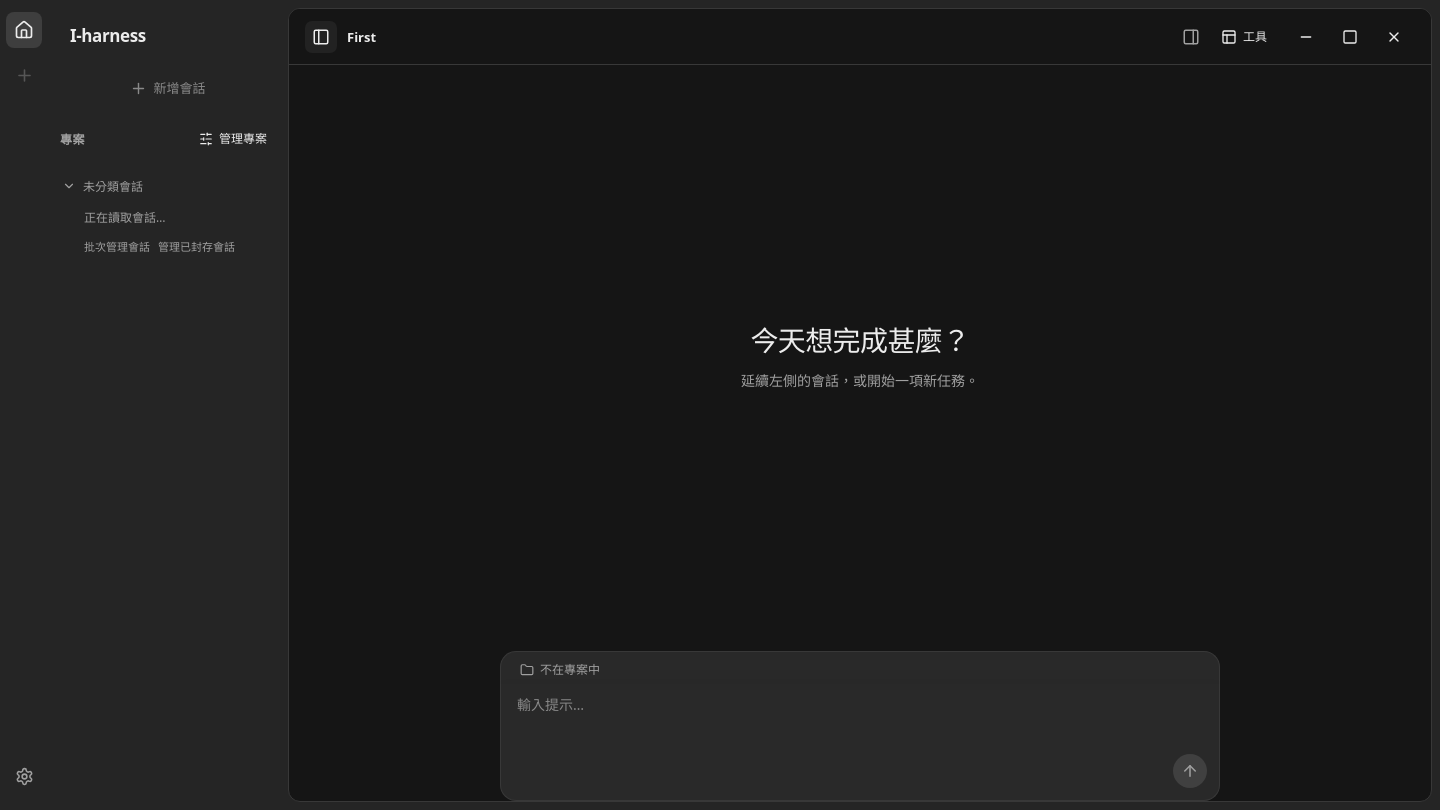
it: mounts the batch manager, confirms the action and retains only failed selections
Click the button "批次管理會話": (117, 246) [84,232,150,260]
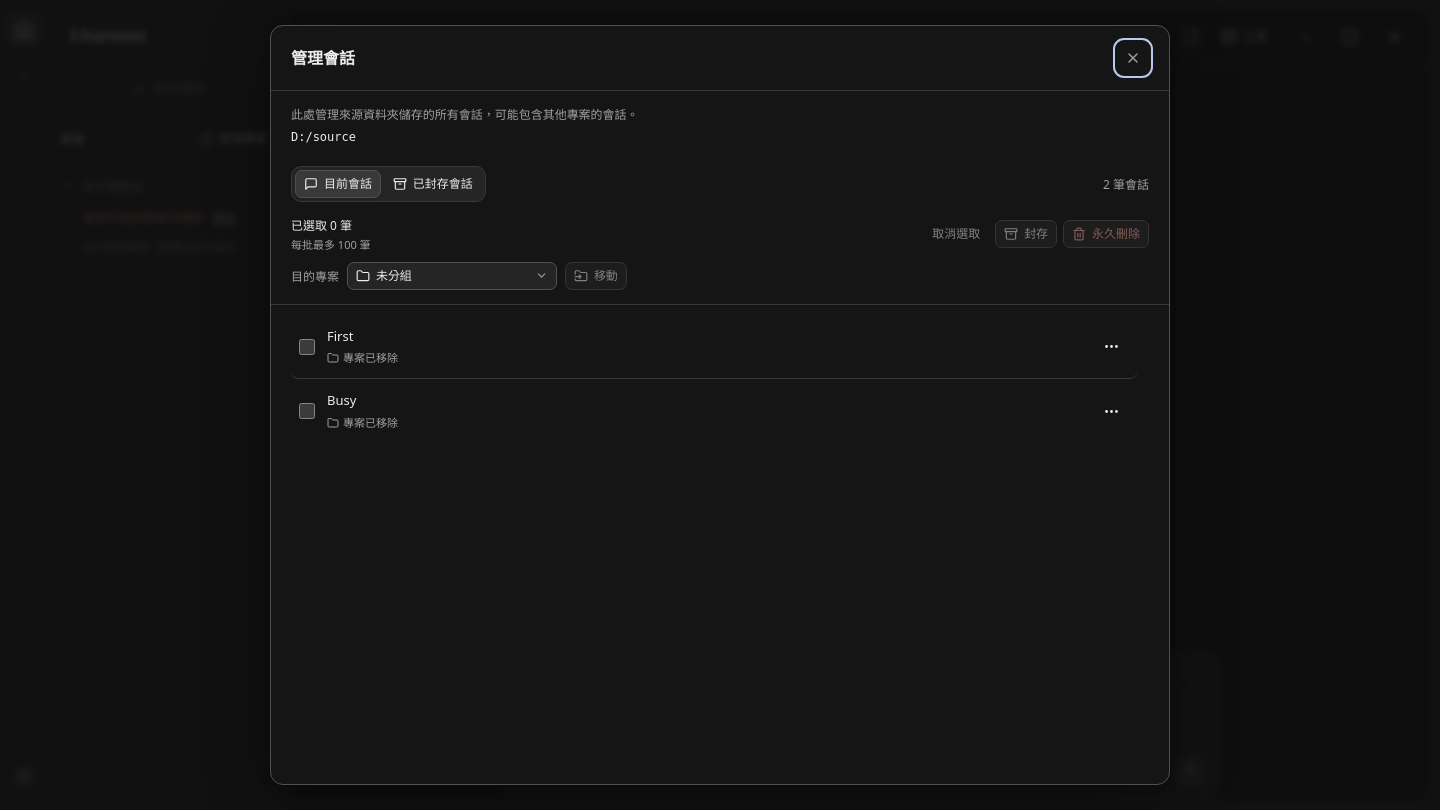
Click the checkbox named "選取 First": (307, 346) [299,338,315,354]
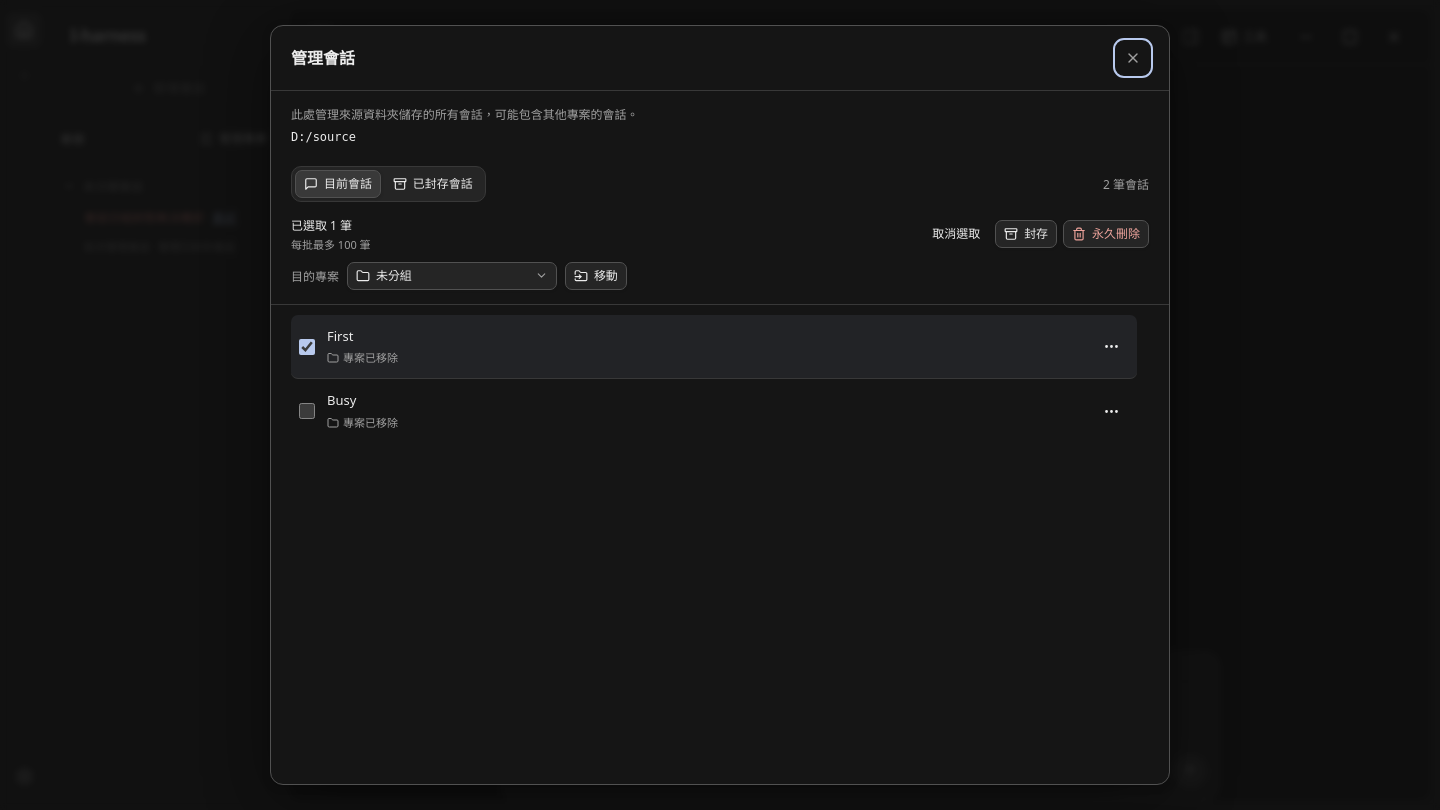
Click the checkbox named "選取 Busy": (307, 412) [299,404,315,420]
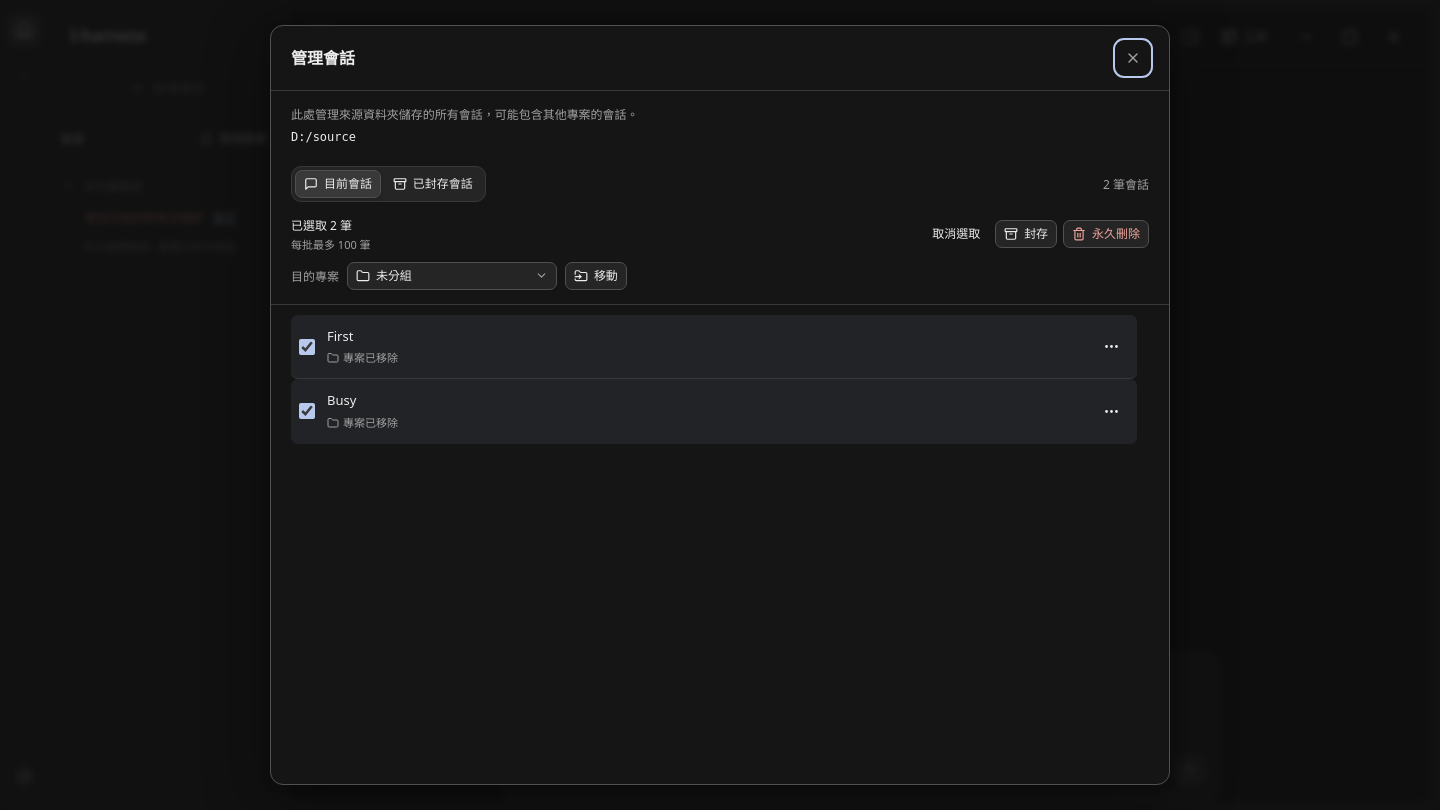
Click the button with aria-label "封存所選會話": (1026, 234) [995,220,1057,248]
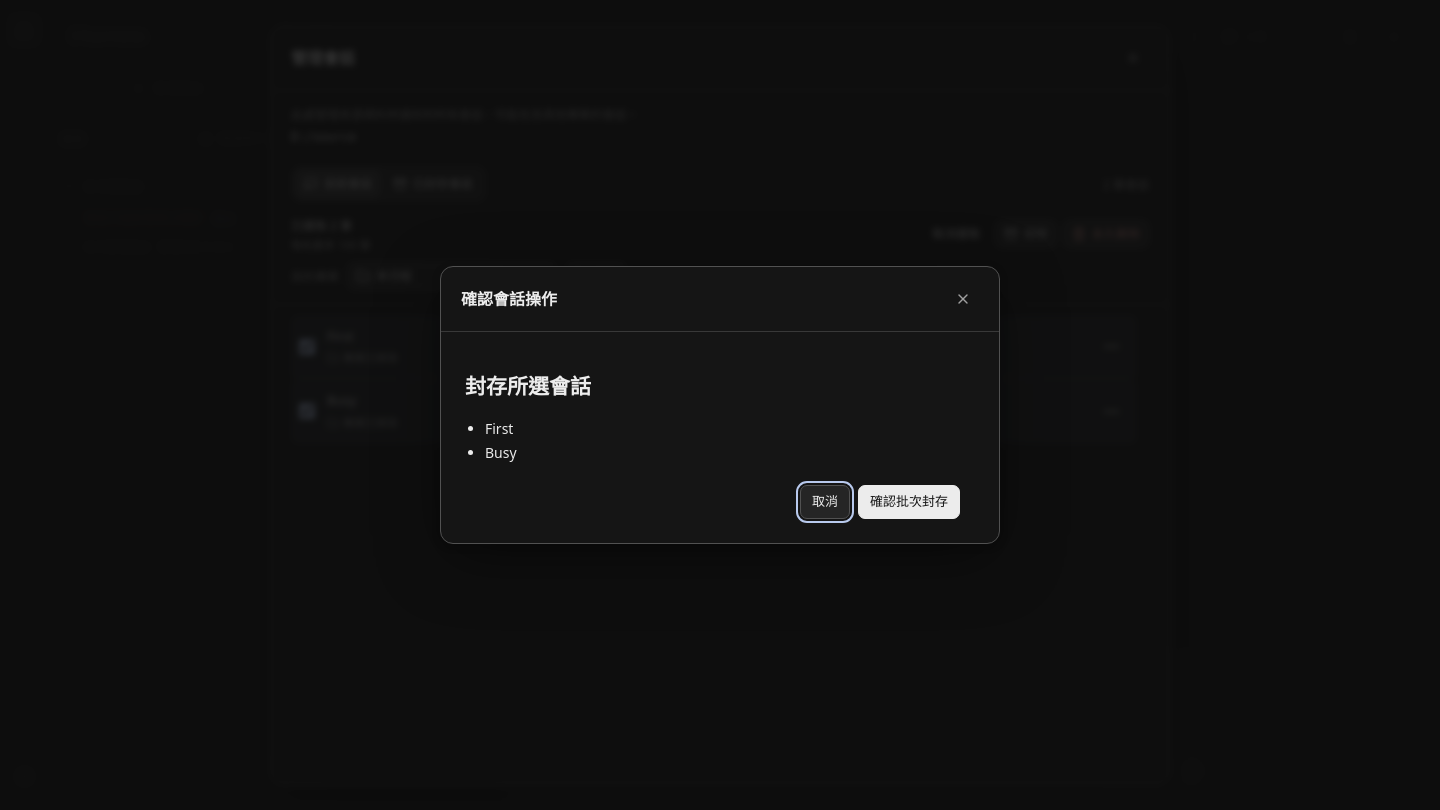
Click the button "確認批次封存": (909, 502) [858,485,960,519]
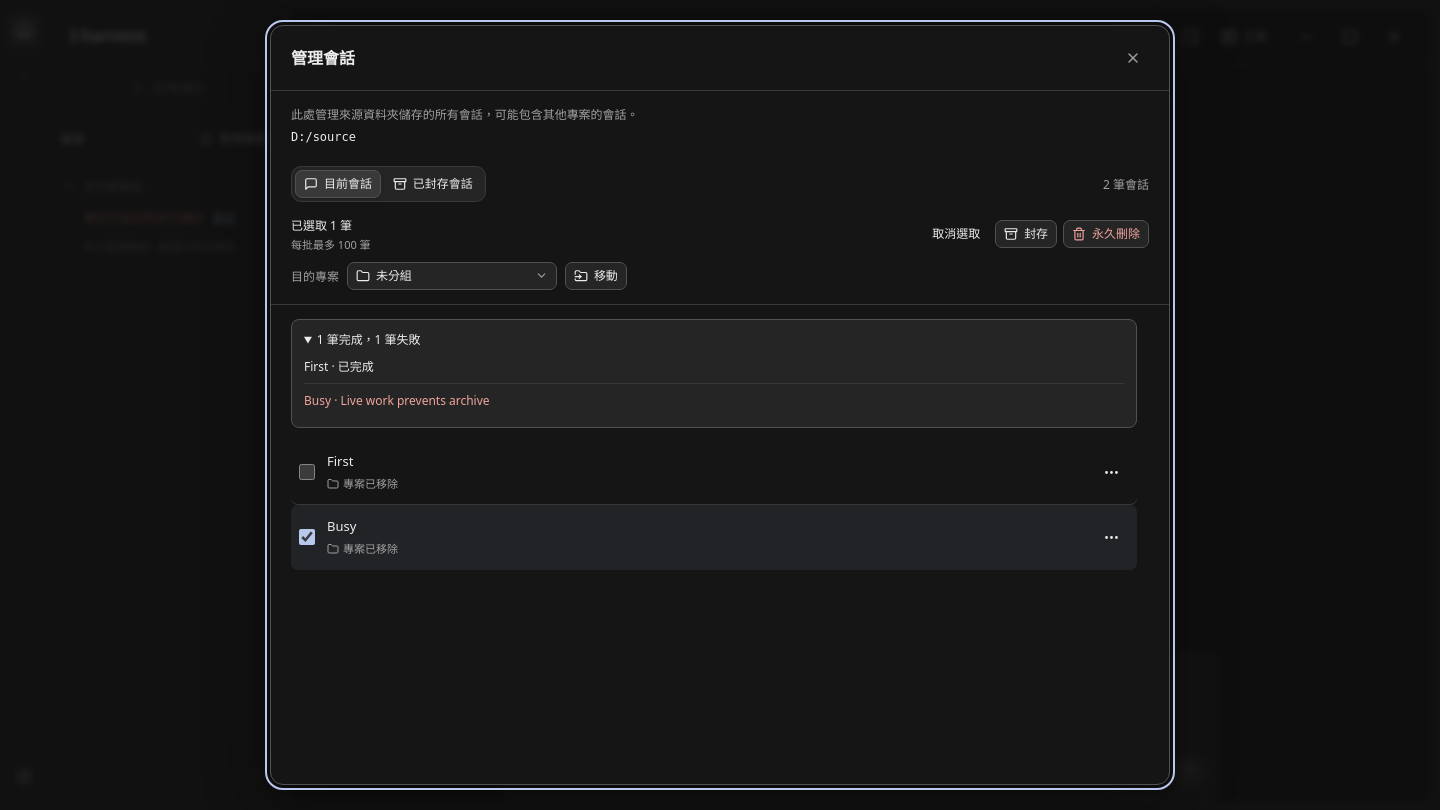
Check: the checkbox named "選取 First" is not checked, box [299,464,315,480]
Check: the checkbox named "選取 Busy" is checked, box [299,529,315,545]
Check: the text "Busy · Live work prevents archive" is shown, box [304,392,490,409]
